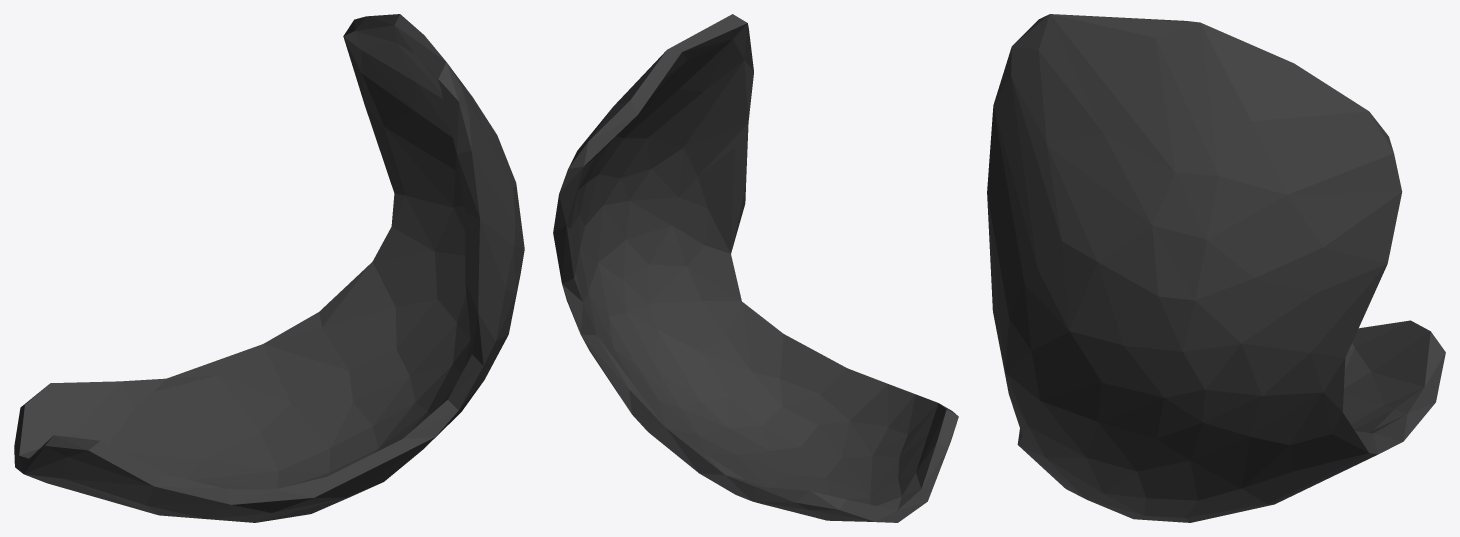
Rendered from Femur_lateral_condyle.glb.
The picture shows the model from 3 angles, left to right: view 1: azimuth 30°, elevation 25°; view 2: azimuth 150°, elevation 25°; view 3: azimuth 270°, elevation 25°; orthographic projection. The views are drawn at different scales.
Parts seen in each view (by area): view 1: Femur_lateral_condyle; view 2: Femur_lateral_condyle; view 3: Femur_lateral_condyle.
Part boxes in pixels (x1,y1,x2,y2): Femur_lateral_condyle: [14, 14, 524, 522]; Femur_lateral_condyle: [553, 14, 958, 522]; Femur_lateral_condyle: [987, 14, 1445, 522].
Bounding box in the file's own units: 0.0313 × 0.0306 × 0.0228.
1 material, 1 textured.
